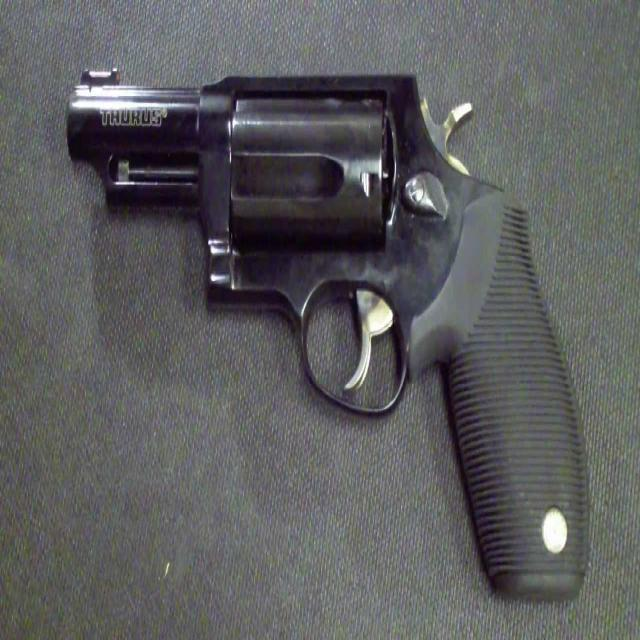HandGun: (67, 69, 589, 606)
